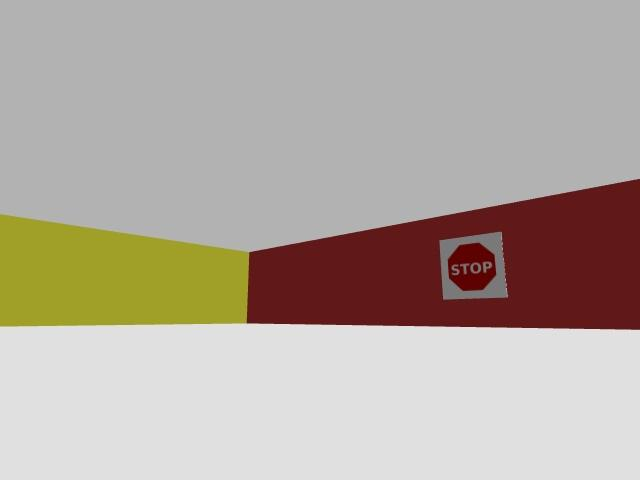stop: (440, 232, 507, 299)
